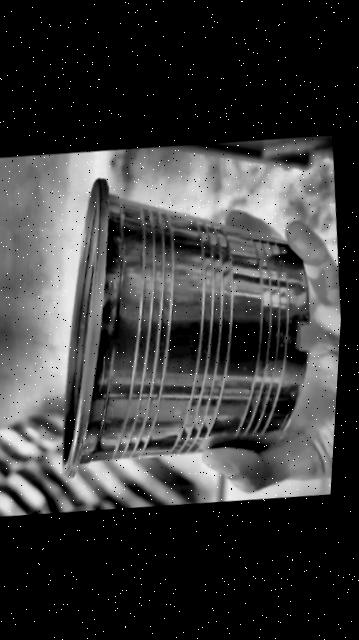pot: (62, 180, 307, 476)
